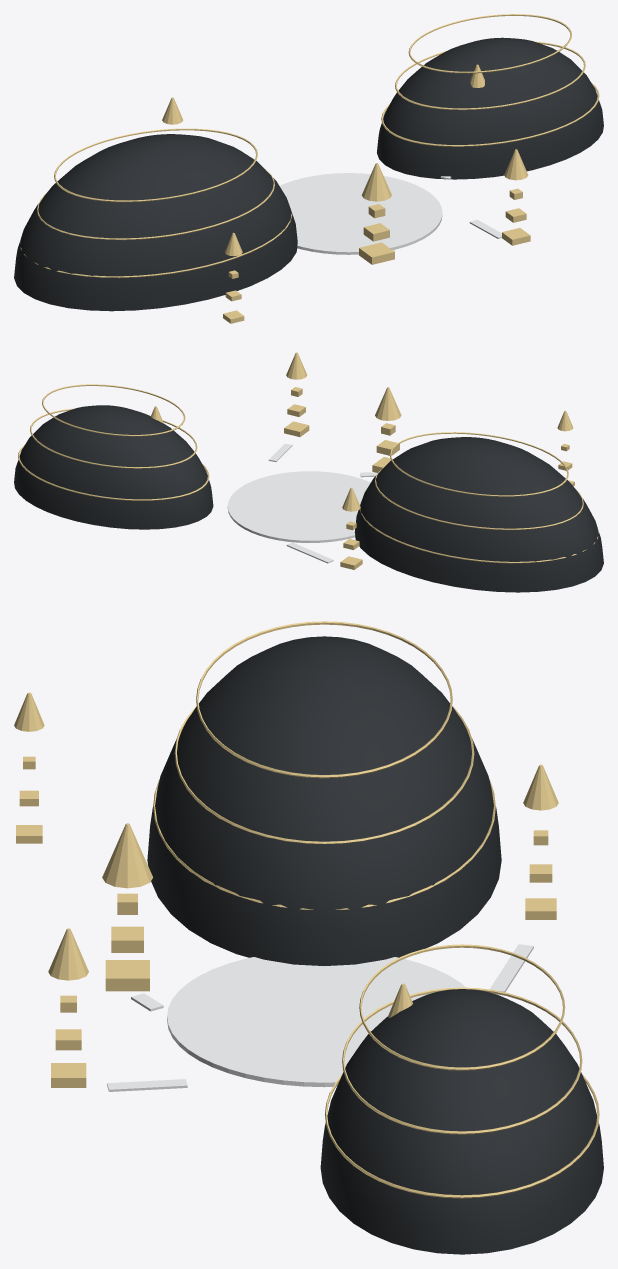
The model's file is reef-hub.glb.
3 views of the same model, one above another, from view 1: azimuth 30°, elevation 25°; view 2: azimuth 150°, elevation 25°; view 3: azimuth 270°, elevation 25° (orthographic). The views are drawn at different scales.
Parts seen in each view (by area): view 1: Sphere.016, Cylinder.020, Torus.226; view 2: Sphere.016, Cylinder.020, Torus.226; view 3: Sphere.016, Cylinder.020, Torus.226.
Part boxes in pixels (x1,y1,x2,y2): Sphere.016: [14, 37, 603, 311]; Cylinder.020: [279, 173, 501, 254]; Torus.226: [20, 14, 599, 323]; Sphere.016: [14, 405, 603, 592]; Cylinder.020: [227, 443, 377, 563]; Torus.226: [18, 352, 598, 569]; Sphere.016: [147, 636, 603, 1254]; Cylinder.020: [107, 944, 533, 1091]; Torus.226: [14, 621, 599, 1198].
Bounding box in the file's own units: 121 × 22.25 × 59.96.
